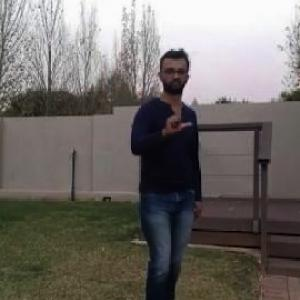land_hand: (161, 100, 191, 138)
